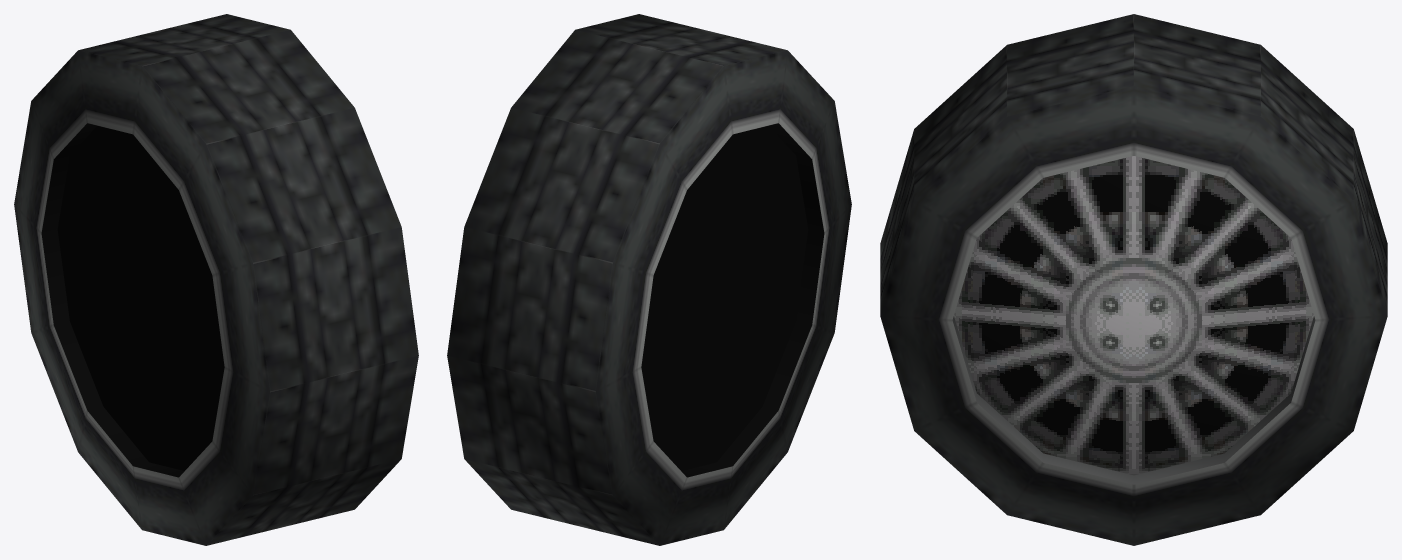
File: DefaultWheel_merit.glb
3 renders of one model, left to right at view 1: azimuth 30°, elevation 25°; view 2: azimuth 150°, elevation 25°; view 3: azimuth 270°, elevation 25°, orthographic.
Parts seen in each view (by area): view 1: wheel; view 2: wheel; view 3: wheel.
Part boxes in pixels (<box>): wheel: <box>14,14,418,545</box>; wheel: <box>447,14,851,545</box>; wheel: <box>880,14,1387,545</box>.
Bounding box in the file's own units: 0.3084 × 0.7599 × 0.7599.
4 materials, 3 textured.
